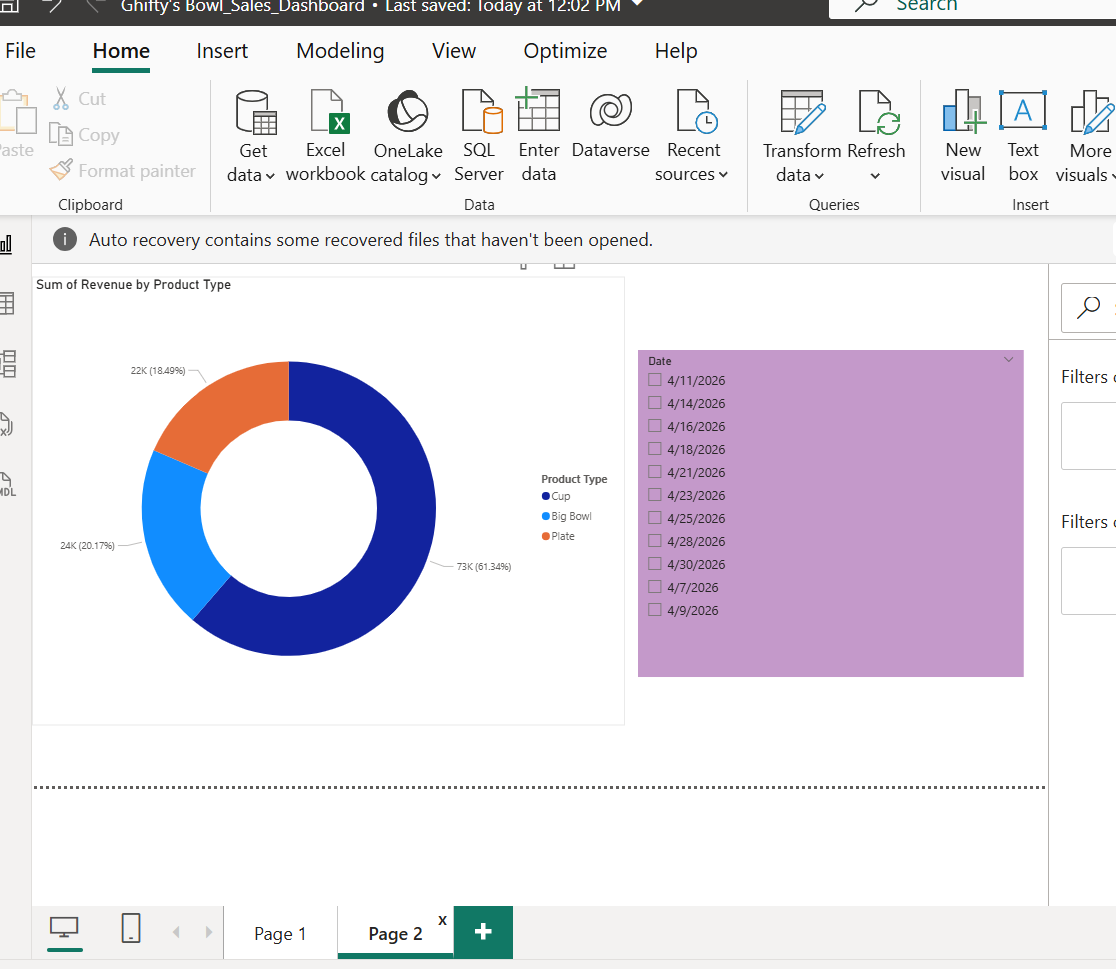

This screenshot's page, from the dashboard's own definition file:
{"tool":"powerbi","page":{"name":"Page 2","canvas":[1280,720],"ordinal":1},"visuals":[{"type":"donutChart","fields":{"Category":["sales_data.Product Type"],"Y":["Sum(sales_data.Revenue)"]},"box":[0,77.5,746.5,565],"z":0},{"type":"slicer","fields":{"Values":["sales_data.Date"]},"box":[763.5,170.1,485.7,412],"z":1000}]}

Visuals, with their boxes on the page's 1280x720 design canvas (x1, y1, x2, y2). These are canvas units, not pixel positions in the 1116x969 screenshot, which may show the page scaled, cropped or inside an application window:
donutChart - sales_data.Product Type x Sum(sales_data.Revenue): (0,78,746,642)
slicer - sales_data.Date: (764,170,1249,582)
